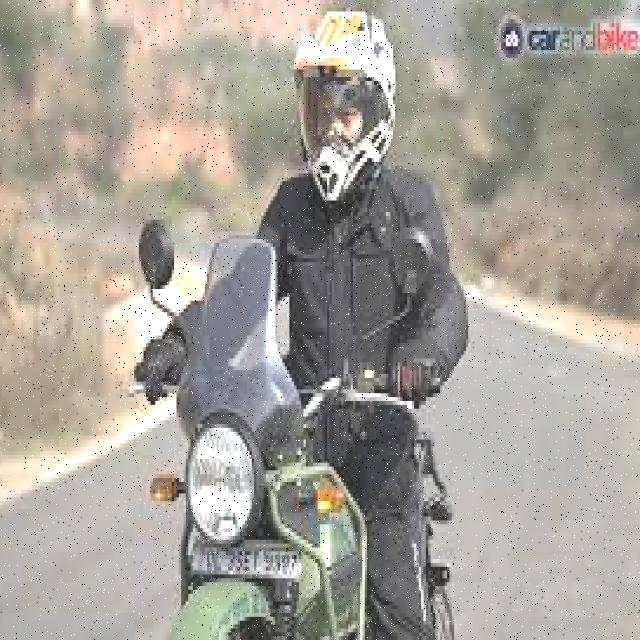not_triplets: (116, 0, 476, 640)
with-helmet: (290, 0, 402, 212)
